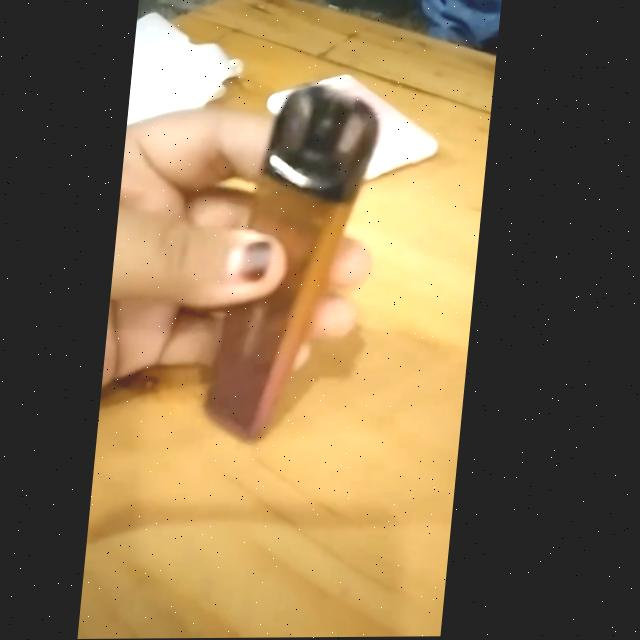vape: (209, 86, 381, 439)
